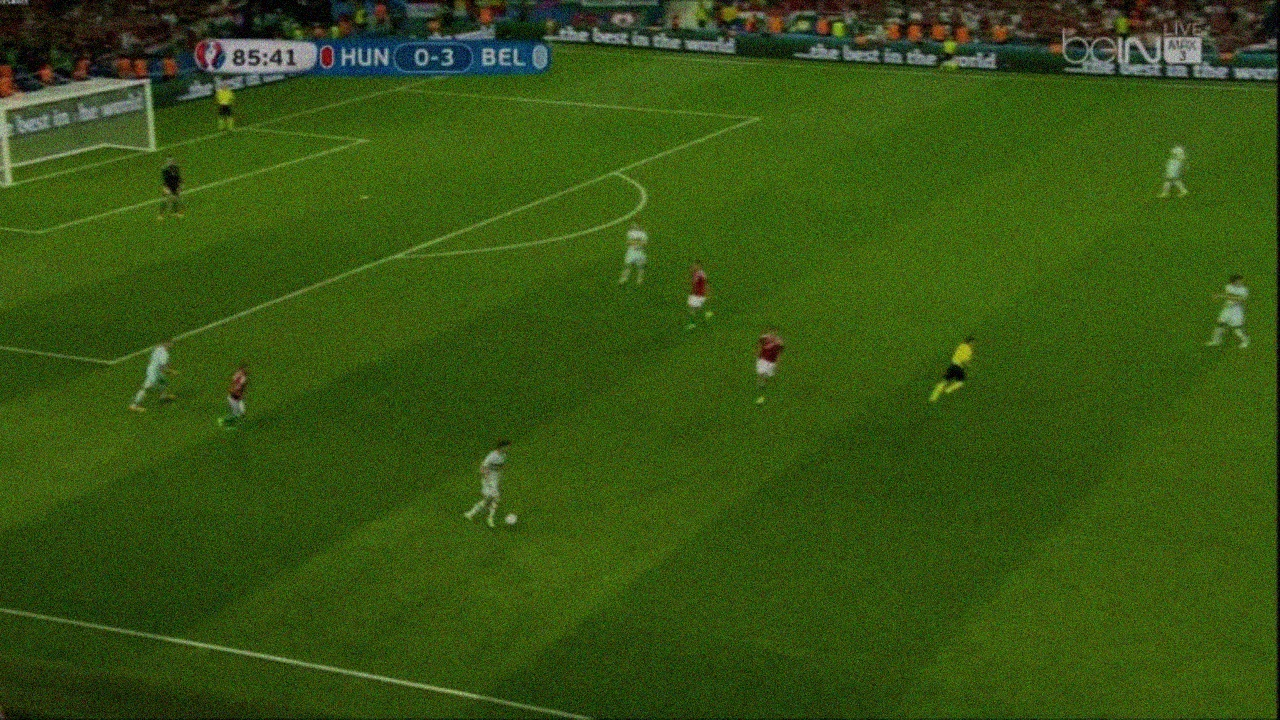ball: (505, 512, 519, 527)
player: (464, 438, 512, 528), (1202, 275, 1251, 350), (129, 338, 178, 411), (217, 360, 251, 430), (753, 327, 783, 404), (684, 260, 714, 329), (619, 220, 648, 285), (1157, 140, 1188, 199), (157, 154, 184, 220)
referee: (928, 338, 976, 402), (216, 83, 235, 134), (939, 32, 959, 74)
